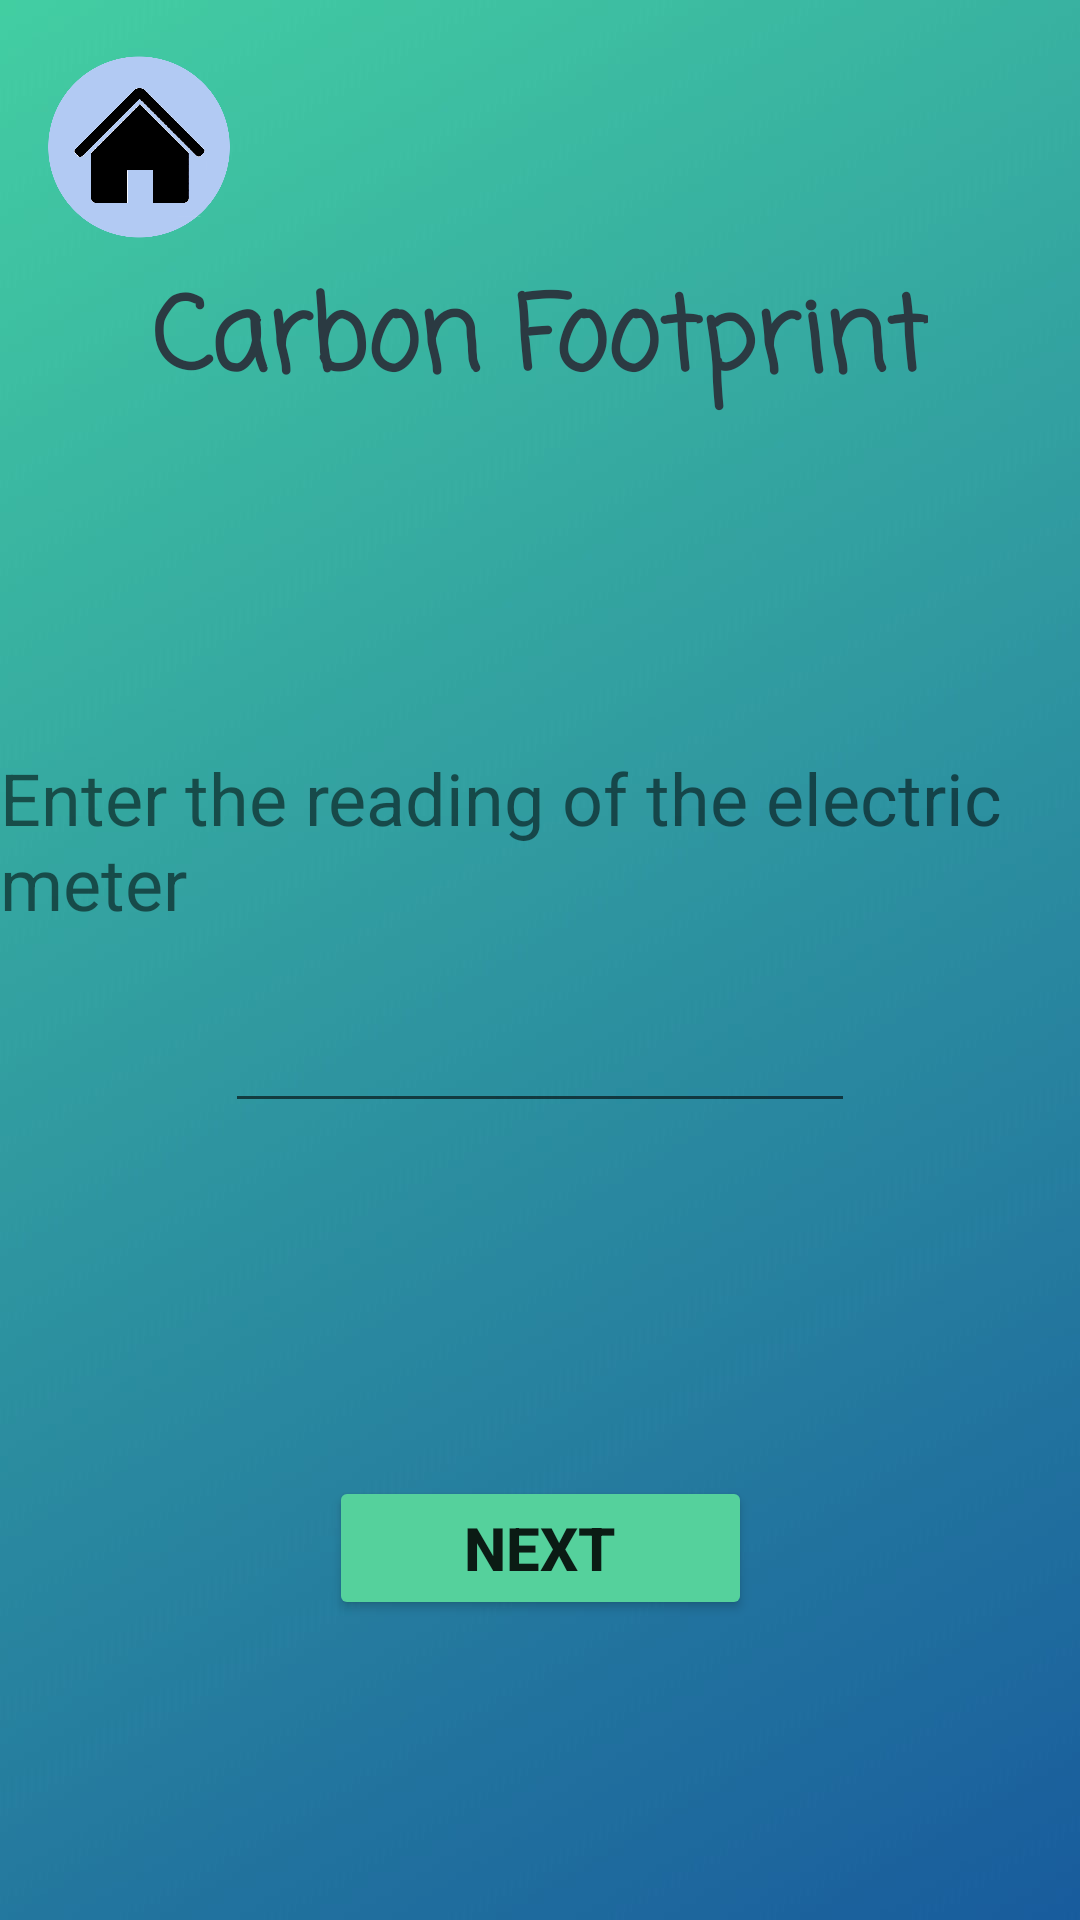

Icon bounding boxes for this 1080 x 1920 phone screenshot, format (x1, y1, x2, y2):
home: (48, 56, 230, 238)
